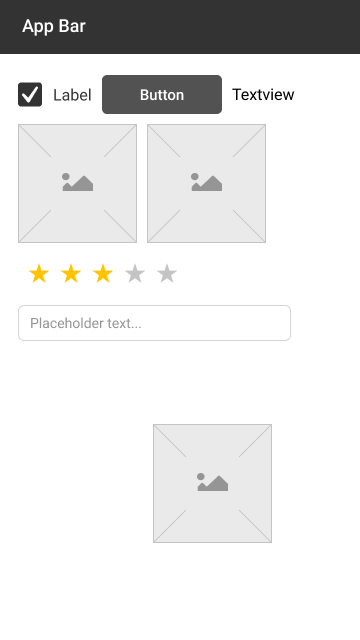button: (101, 75, 222, 115)
checkBox: (16, 81, 93, 107)
editText: (16, 303, 293, 344)
imageView: (145, 122, 268, 246), (16, 123, 139, 246)
ratingBar: (22, 262, 178, 288)
textView: (232, 85, 296, 105)
toolbar: (1, 1, 359, 55)
